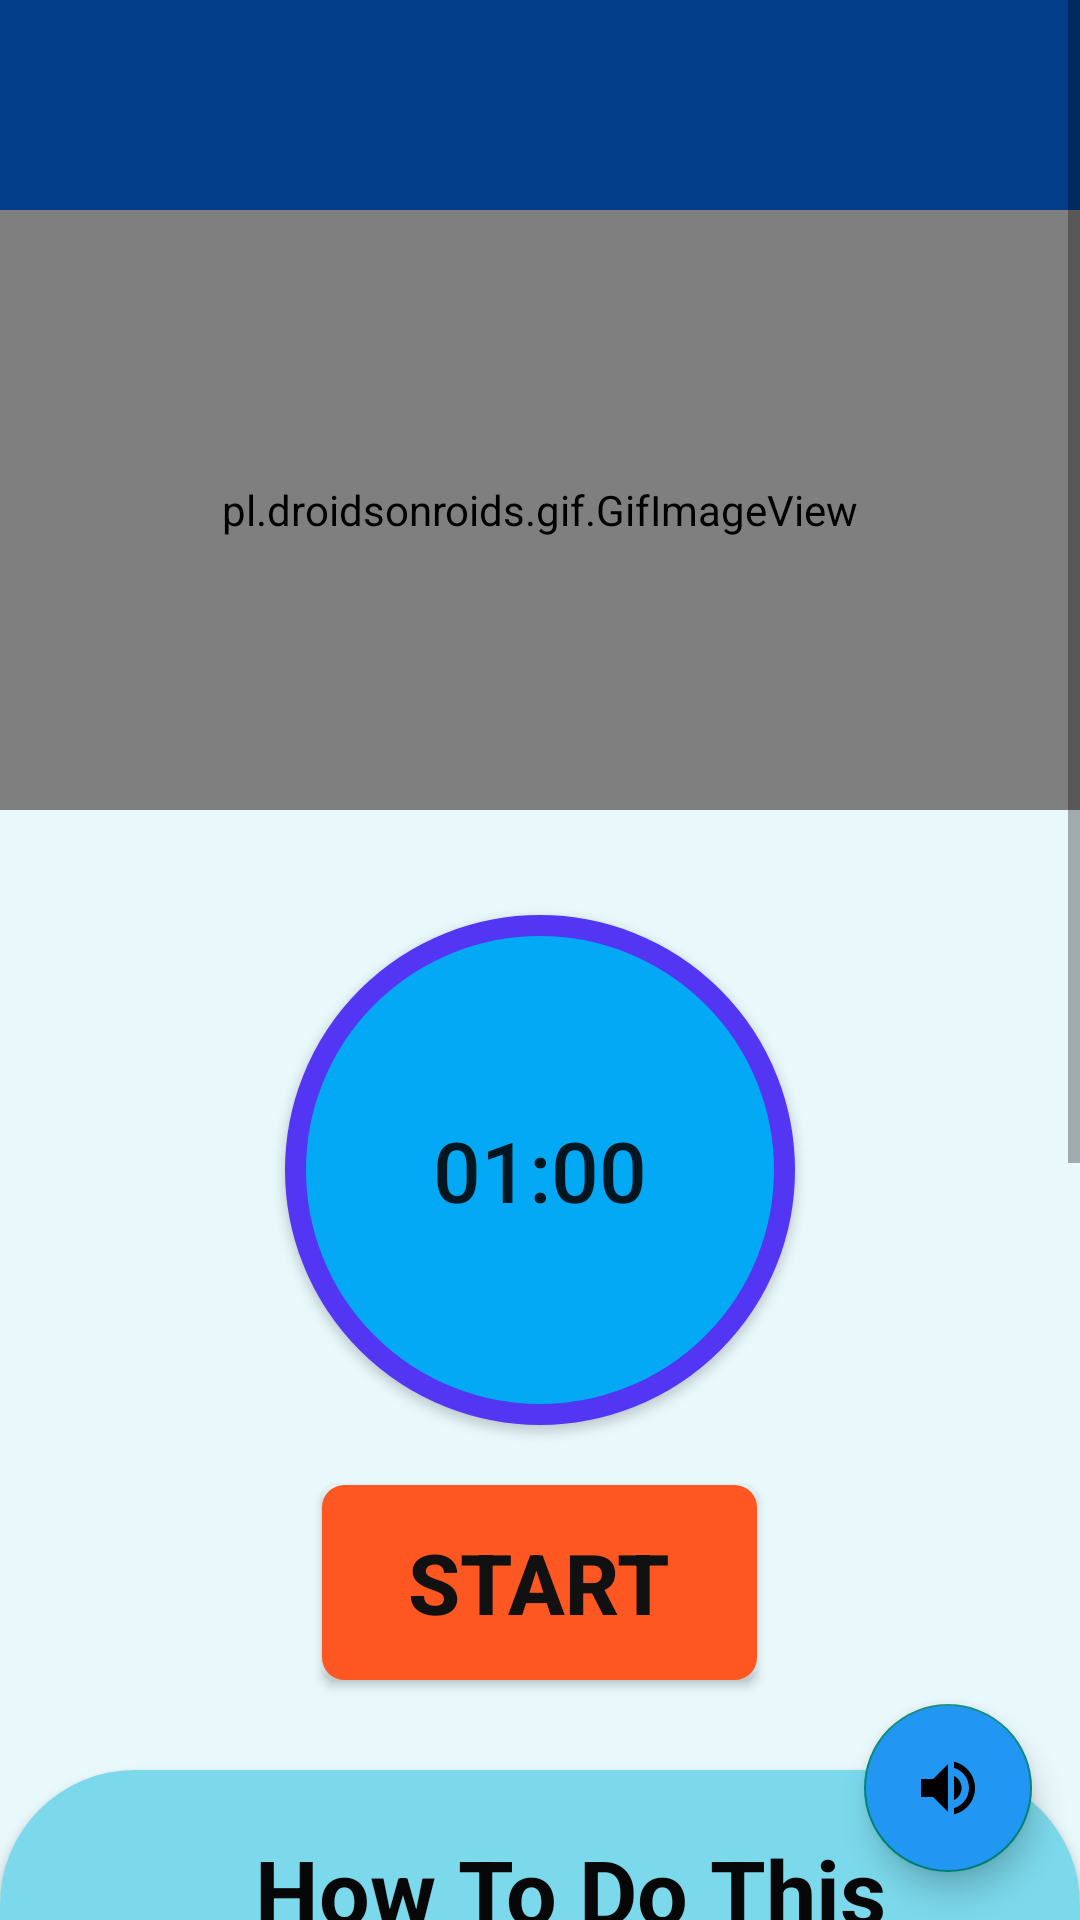

Point at icon controls on the screen. Image size 1080×1920, points as (x=x, y=y).
buttun volume up: (x=948, y=1788)
